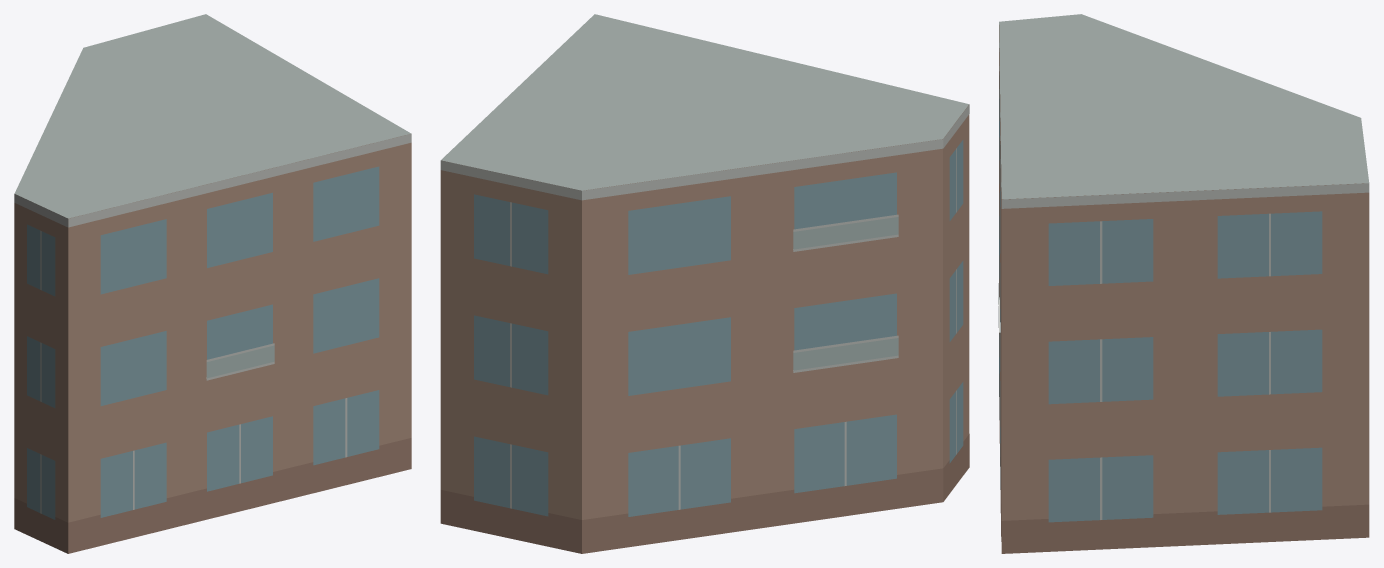
File: survey-upis-32620019.glb
The picture shows the model from 3 angles, left to right: view 1: azimuth 30°, elevation 25°; view 2: azimuth 150°, elevation 25°; view 3: azimuth 270°, elevation 25°; orthographic projection. The views are drawn at different scales.
Parts seen in each view (by area): view 1: survey-upis-32620019.tmp; view 2: survey-upis-32620019.tmp; view 3: survey-upis-32620019.tmp.
Boxes of the visible parts, x1,y1,x2,y2 form: survey-upis-32620019.tmp: (14,14,411,553); survey-upis-32620019.tmp: (440,14,969,553); survey-upis-32620019.tmp: (998,14,1369,553).
Bounding box in the file's own units: 10.22 × 9.1 × 8.64.
